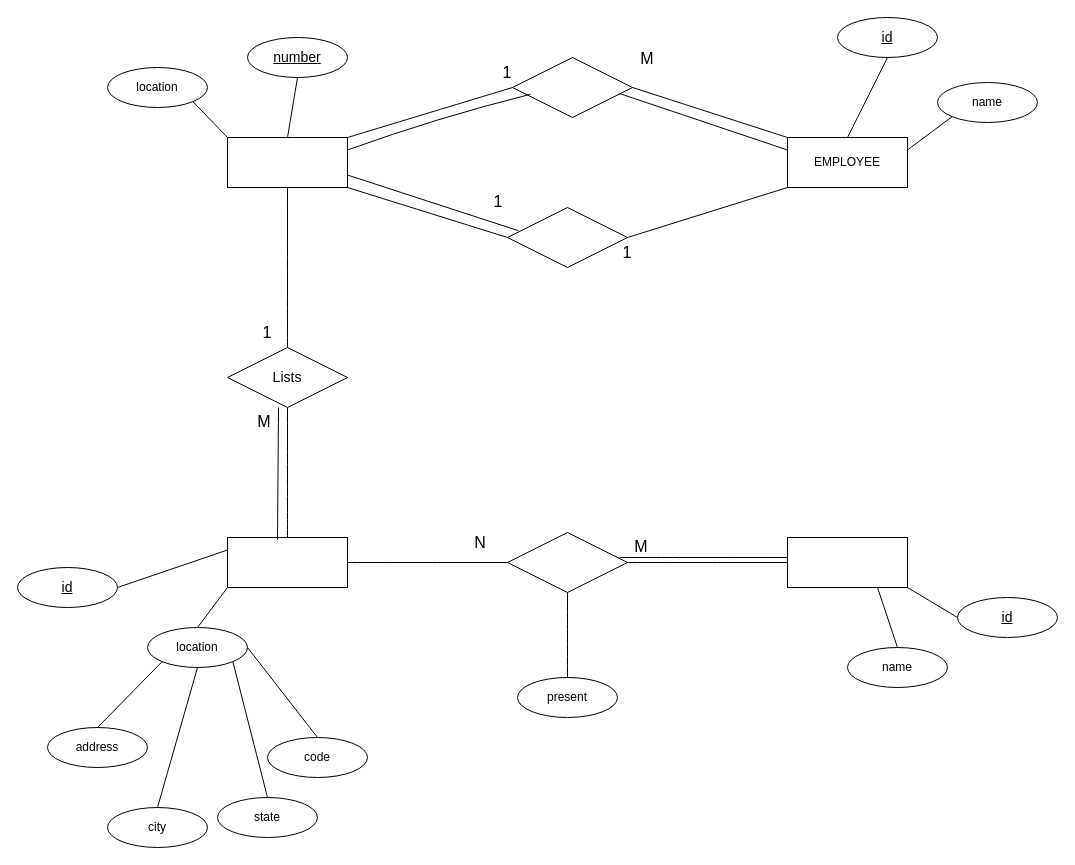
Image size: 1075x865. Some labels were removed from this diagram. Each missing label, with the box of its shape:
Manages: (506, 206, 628, 268)
OWNER: (786, 536, 908, 588)
Owns: (506, 532, 628, 592)
PROPERTY: (226, 536, 348, 588)
SALES_OFFICE: (226, 136, 348, 188)
Works_In: (512, 56, 632, 118)
